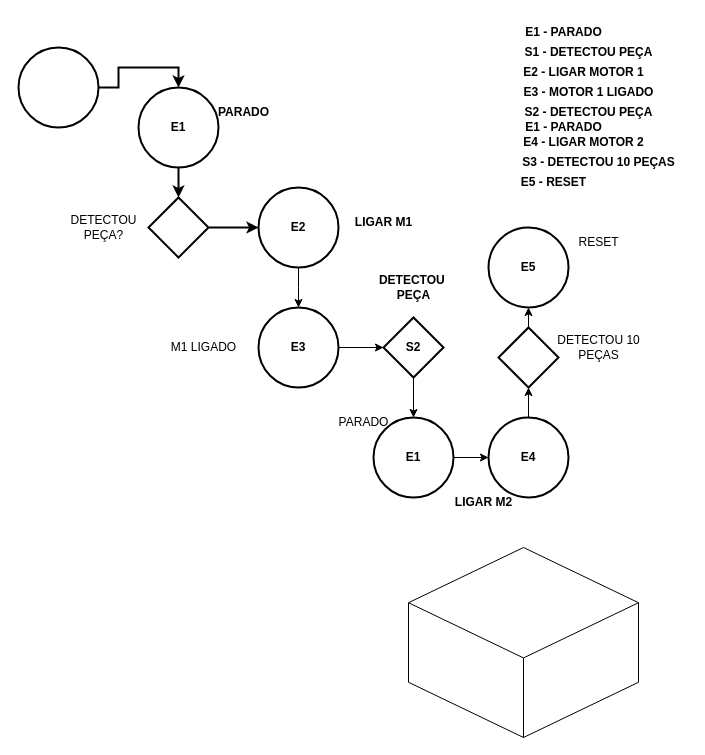
Some shapes in this 705 by 755 pixel diagram are drawn without their labels. Each missing label, with the box of its shape:
inicio: (17, 46, 99, 128)
S1: (147, 196, 209, 258)
S3: (497, 326, 559, 388)
